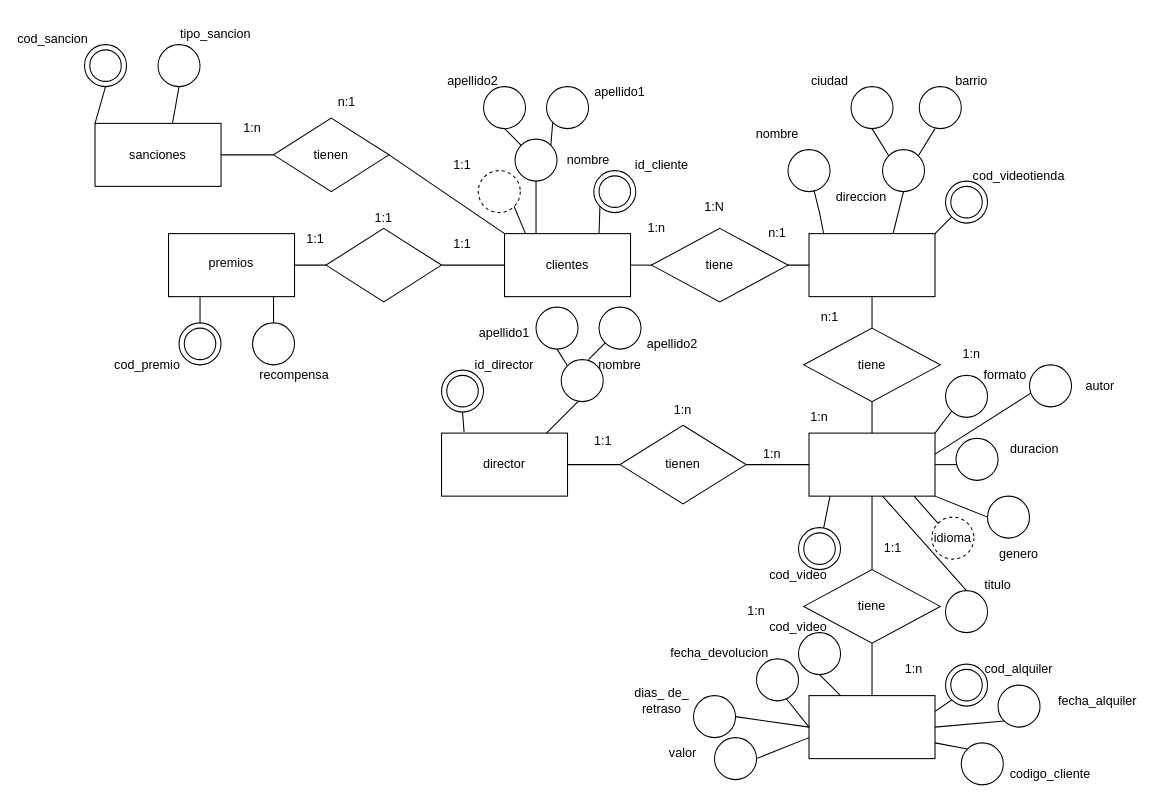
This 1155x807 diagram has some shape labels left out. Here are the shapes that lost their labels. From the top down, the centre of each, then its label:
pixel 498 191: correo
pixel 383 264: ganan
pixel 871 265: videotienda
pixel 871 464: videos
pixel 871 727: alquiler
